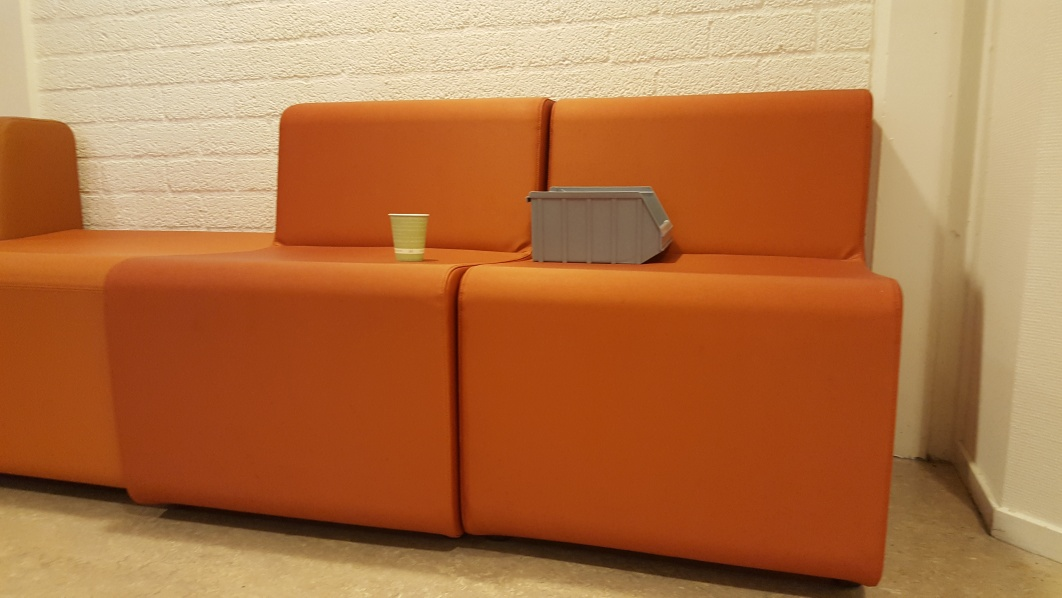cup: (385, 210, 436, 265)
tray: (529, 184, 673, 267)
